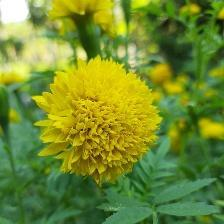marigold: (33, 57, 164, 188)
